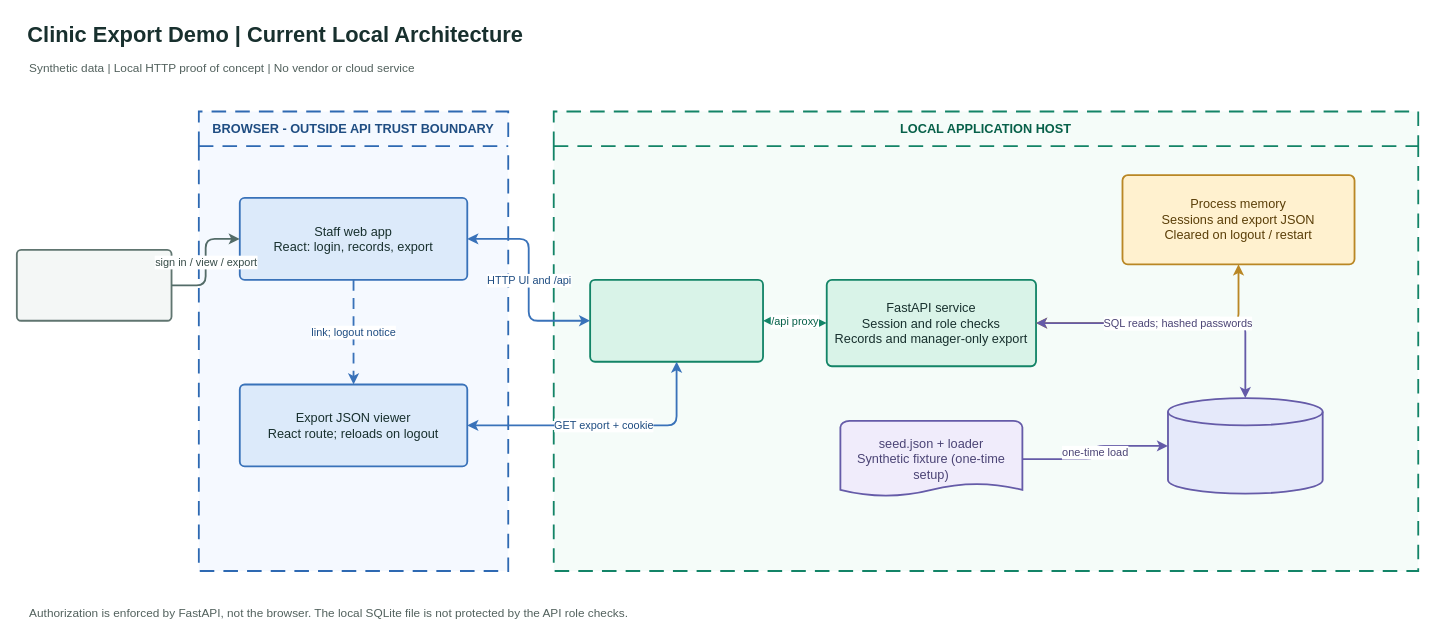
Image size: 1434x642. Some labels were removed from this diagram. The box of each missing label's shape, as (x1, y1, x2, y2) in pixels:
Clinic staff Manager or volunteer: (15, 248, 172, 321)
SQLite database Users, patients, visits: (1167, 397, 1323, 494)
Vite dev server Serves React; proxies /api: (589, 278, 763, 362)
